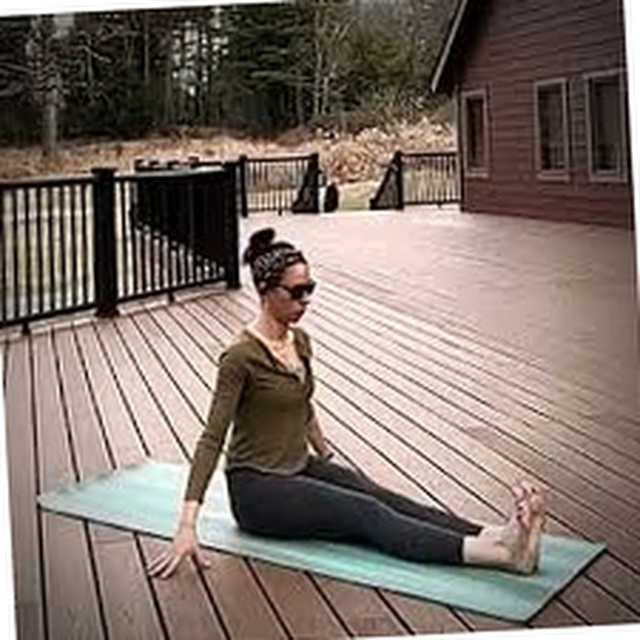Staff_Pose: (145, 226, 548, 580)
